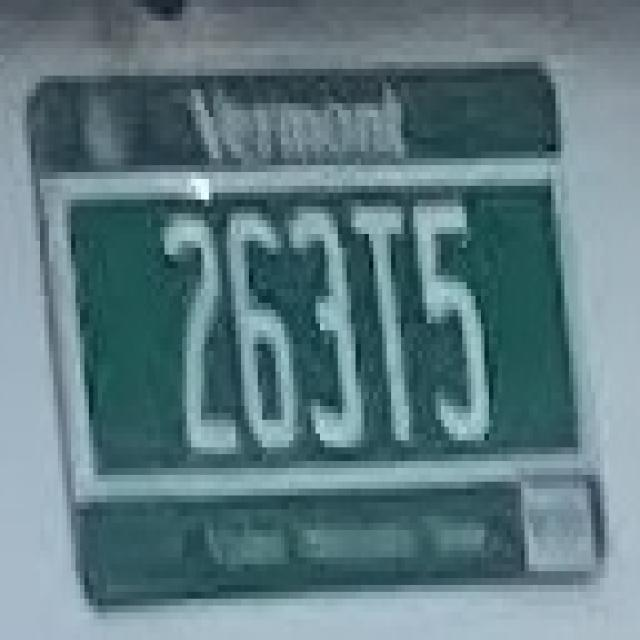2: (142, 186, 231, 454)
3: (271, 178, 360, 440)
5: (396, 178, 494, 434)
6: (209, 178, 298, 448)
T: (338, 172, 422, 440)
